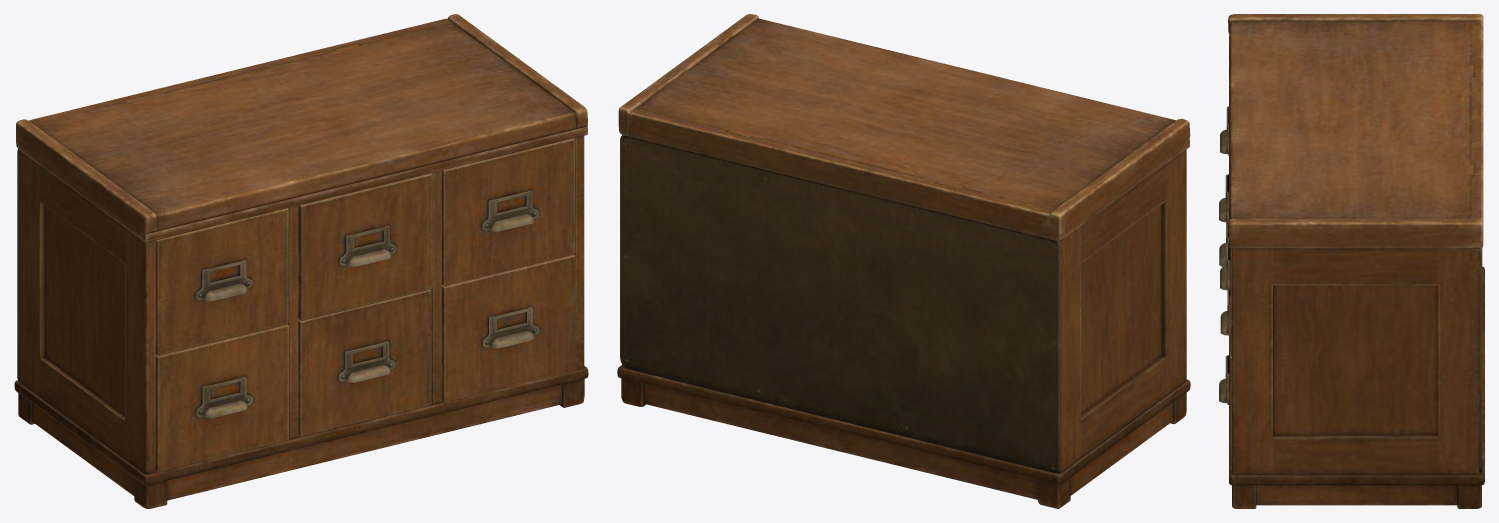
File: dresser.glb
3 renders of one model, left to right at view 1: azimuth 30°, elevation 25°; view 2: azimuth 150°, elevation 25°; view 3: azimuth 270°, elevation 25°, orthographic. The views are drawn at different scales.
Parts seen in each view (by area): view 1: vintage_wooden_drawer_01_body; view 2: vintage_wooden_drawer_01_body; view 3: vintage_wooden_drawer_01_body.
Boxes of the visible parts, bbox=[...] form: vintage_wooden_drawer_01_body: bbox=[14, 14, 588, 508]; vintage_wooden_drawer_01_body: bbox=[617, 14, 1190, 508]; vintage_wooden_drawer_01_body: bbox=[1219, 14, 1484, 508].
Size of the model in its own units: 0.8576 by 0.5455 by 0.4574.
Materials: 1 (1 with a texture image).
